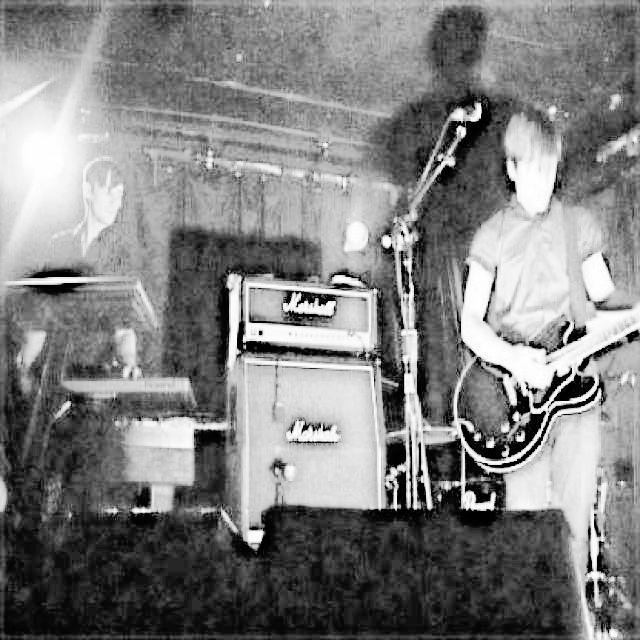Person: (465, 110, 616, 596), (35, 155, 137, 283)
